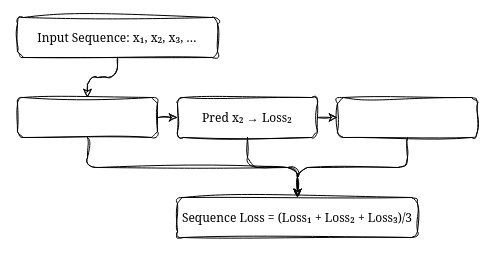
This 495x255 diagram has some shape labels left out. Here are the shapes that lost their labels. From the top down, the centre of each, then its label:
At pixel 87 117: "Pred x₁ → Loss₁".
At pixel 407 117: "Pred x₃ → Loss₃".
